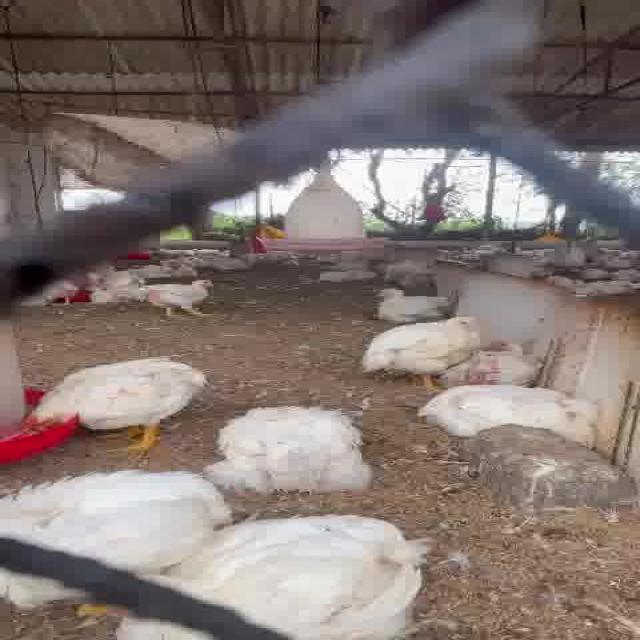AbNormal: (116, 515, 434, 640), (0, 467, 237, 595), (190, 404, 386, 489), (421, 379, 603, 438), (440, 344, 562, 394), (366, 282, 466, 328)
Normal: (10, 352, 222, 450), (358, 308, 507, 379), (102, 275, 245, 319)
